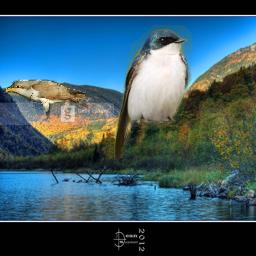Cuckoo: (3, 79, 88, 119)
Swallow: (114, 24, 192, 161)
